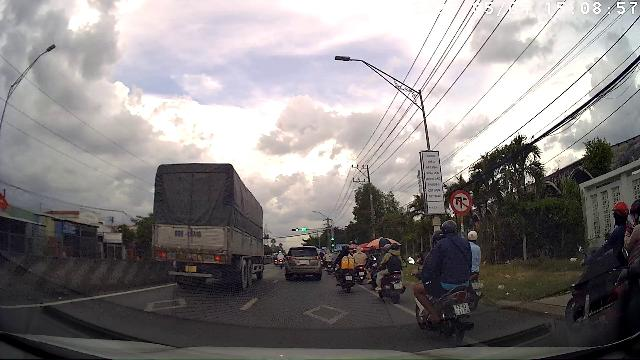124b-cam-oto-quay-dau-xe: (450, 189, 472, 215)
